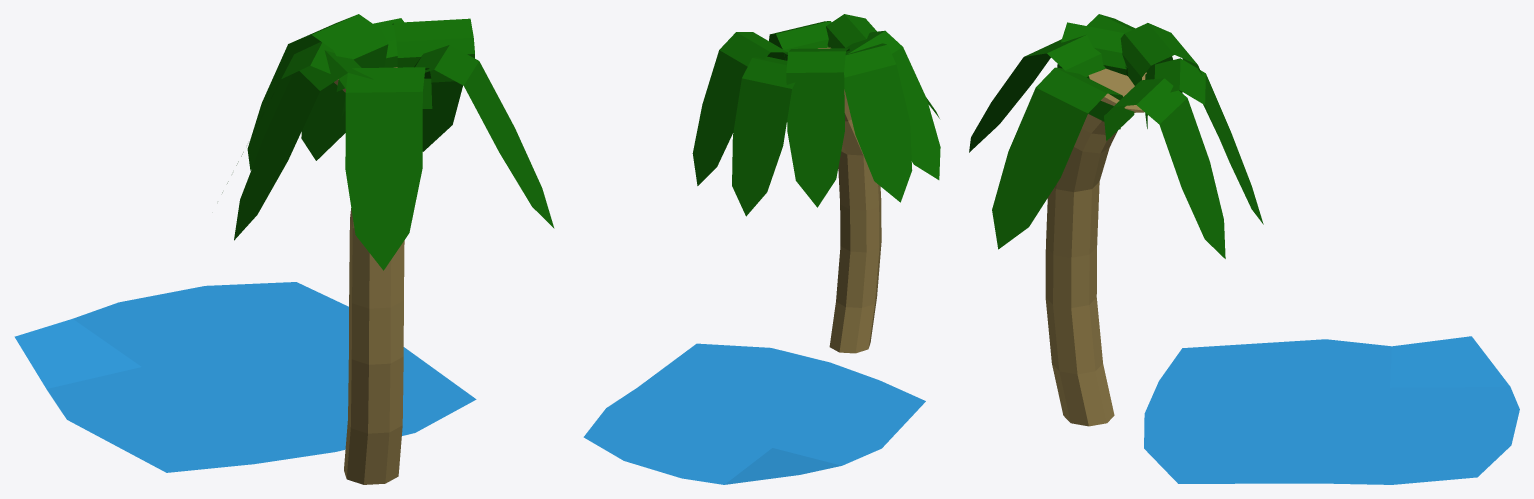
The model's file is oasis.fbx.
3 renders of one model, left to right at view 1: azimuth 30°, elevation 25°; view 2: azimuth 150°, elevation 25°; view 3: azimuth 270°, elevation 25°, orthographic. The views are drawn at different scales.
Parts seen in each view (by area): view 1: Plane; view 2: Plane; view 3: Plane.
Boxes of the visible parts, x1,y1,x2,y2 form: Plane: (14, 14, 554, 484); Plane: (583, 14, 940, 484); Plane: (969, 14, 1519, 484).
Bounding box in the file's own units: 669 × 815 × 1068.
